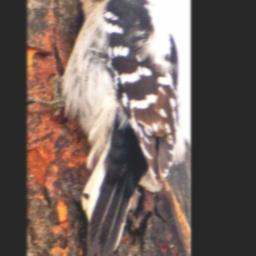Woodpecker: (29, 0, 187, 256)
